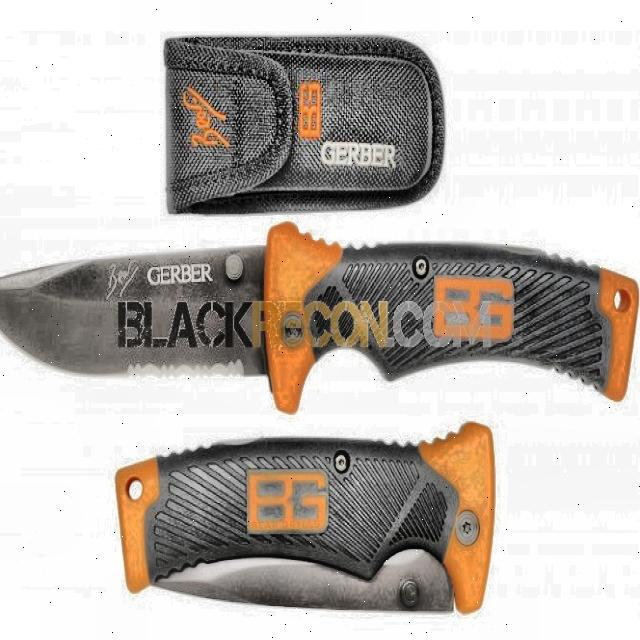knife: (0, 221, 639, 416)
